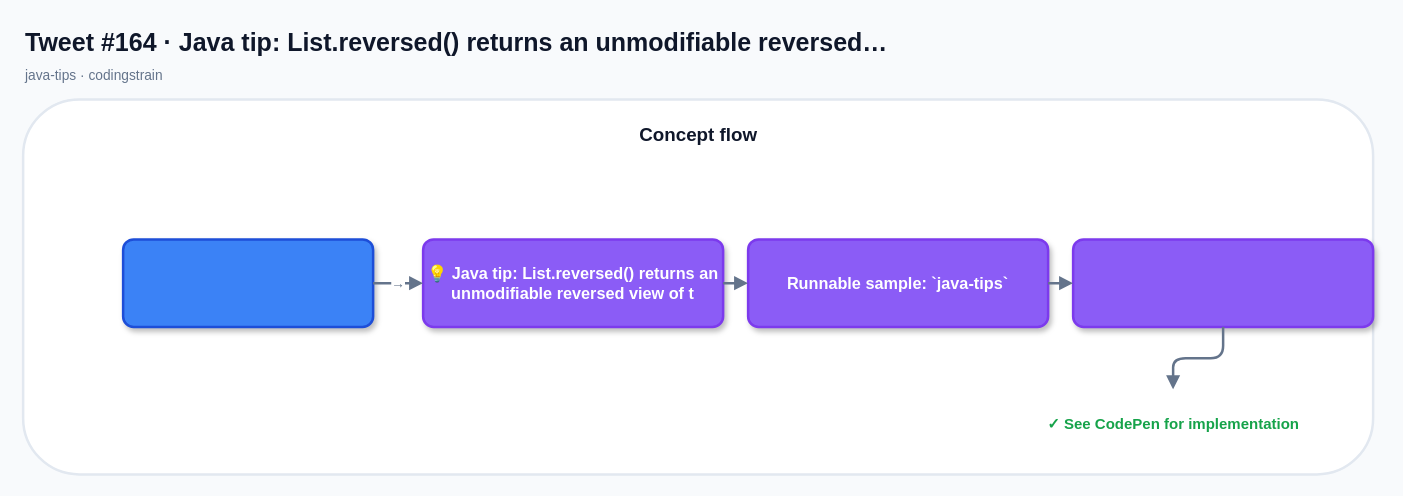
This 1403x496 diagram has some shape labels left out. The centre of each missing label's shape, as x and y in pixels:
"Architecture diagram + Carbon CodePen below" belongs at point 1223,284.
"Problem / context" belongs at point 248,284.
